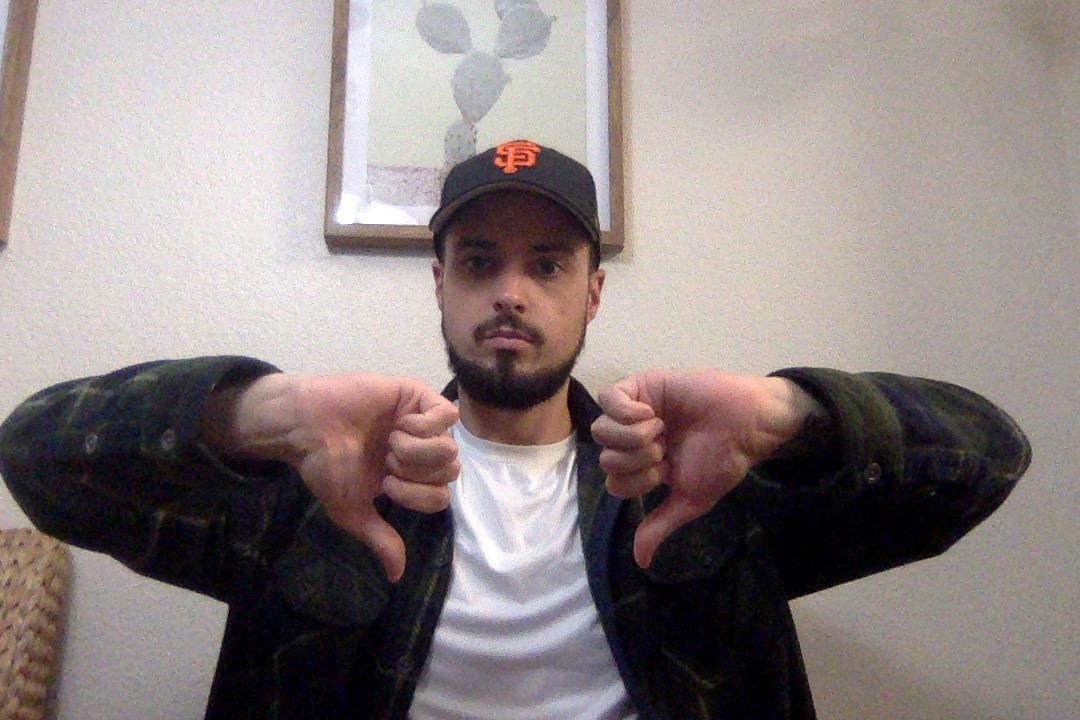Thumbs-Down: (258, 360, 461, 591), (595, 357, 808, 572)
